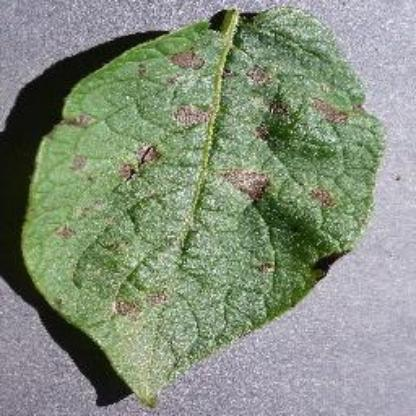Early-Blight: (18, 6, 384, 406)
